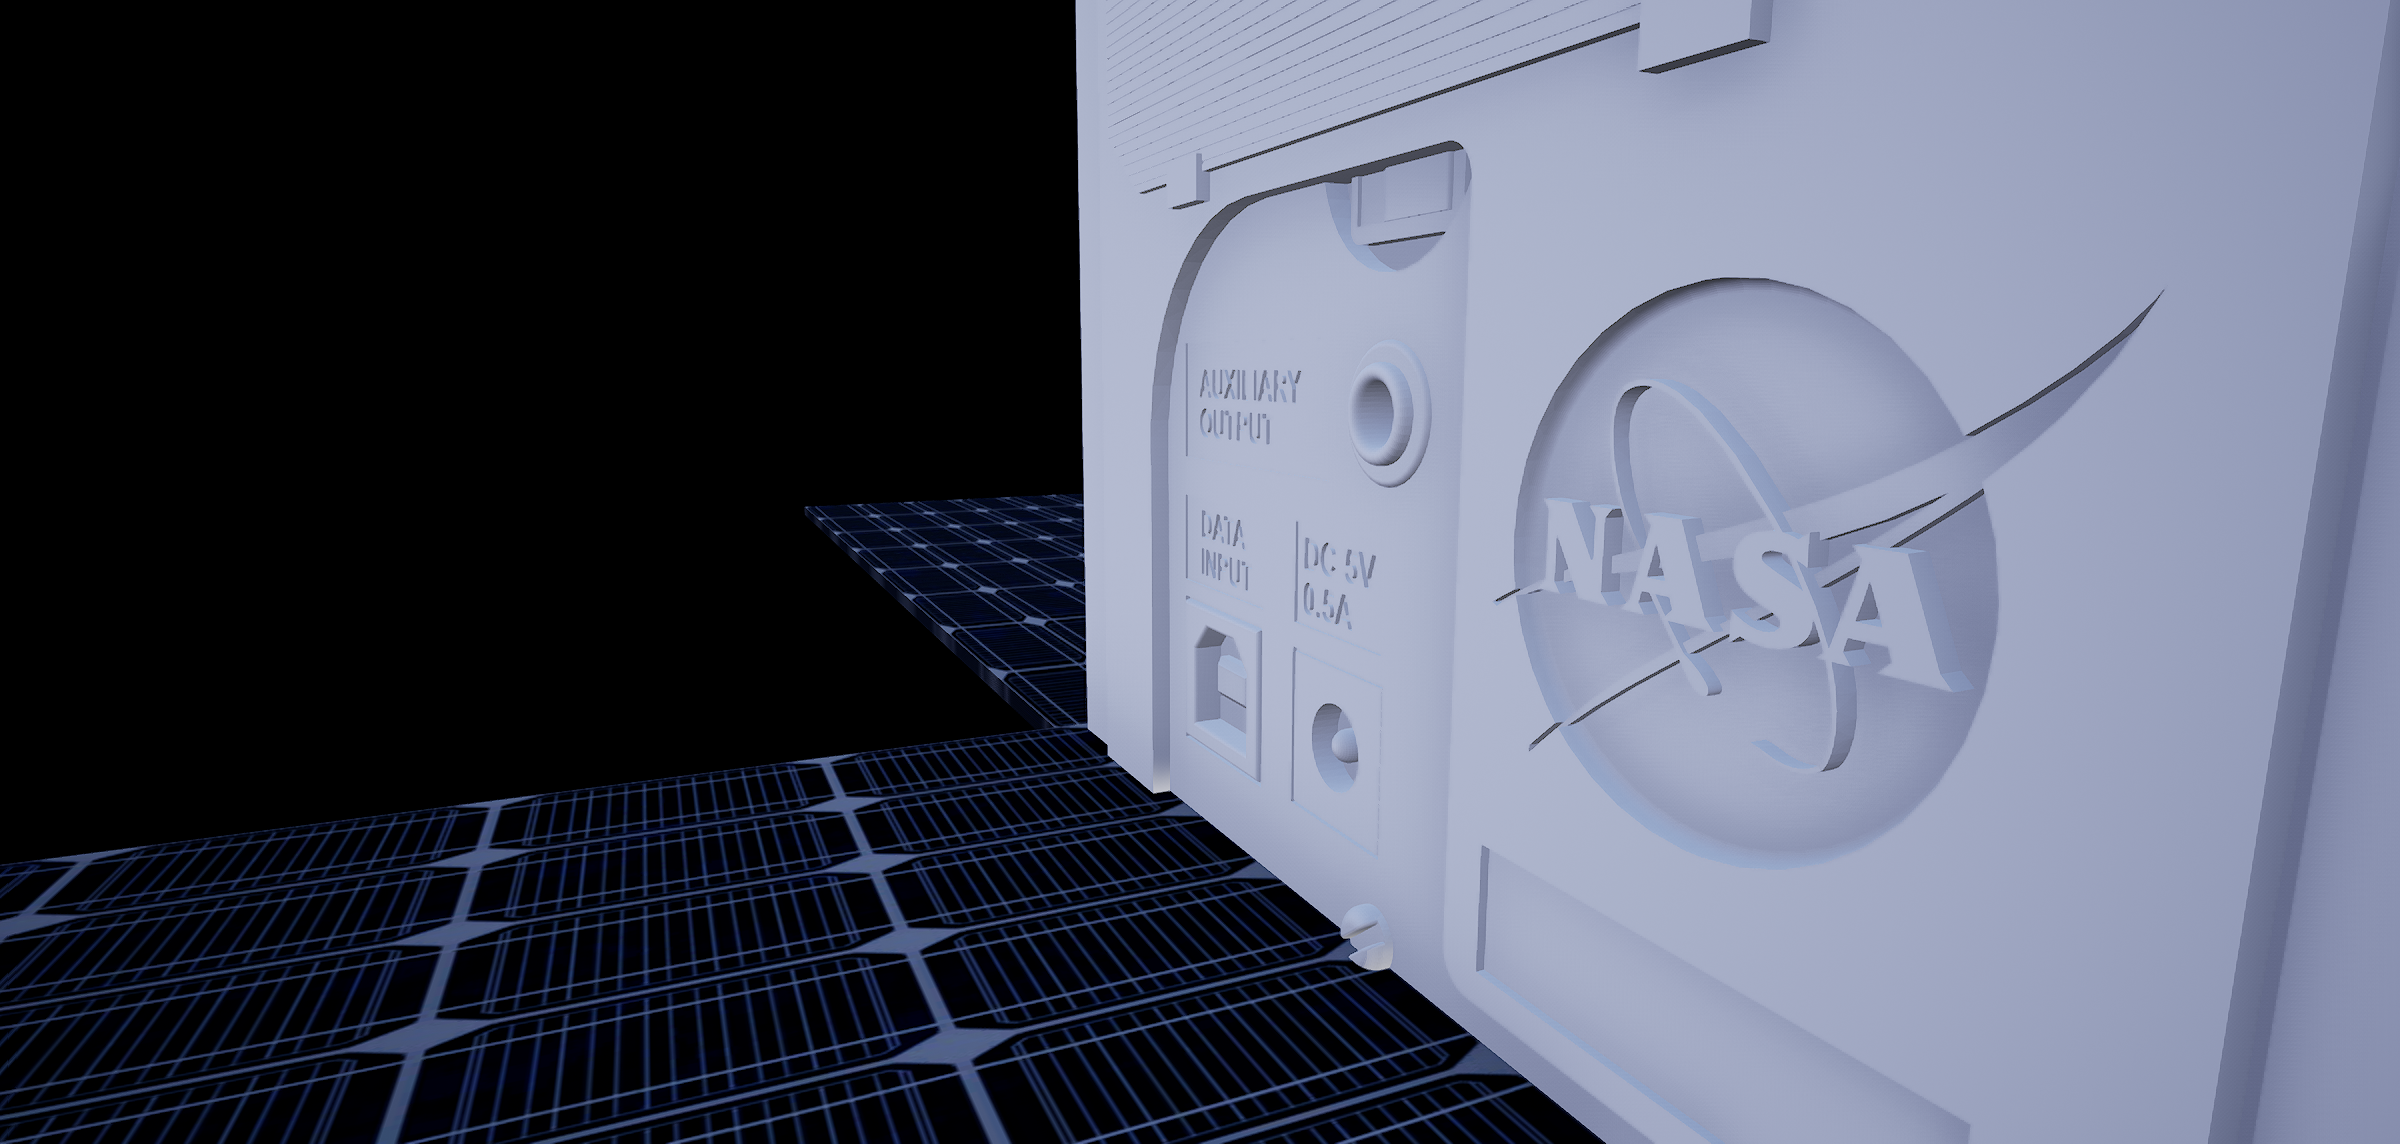aux: (1333, 326, 1443, 499)
dc: (1301, 694, 1368, 806)
usb: (1192, 619, 1254, 770)
